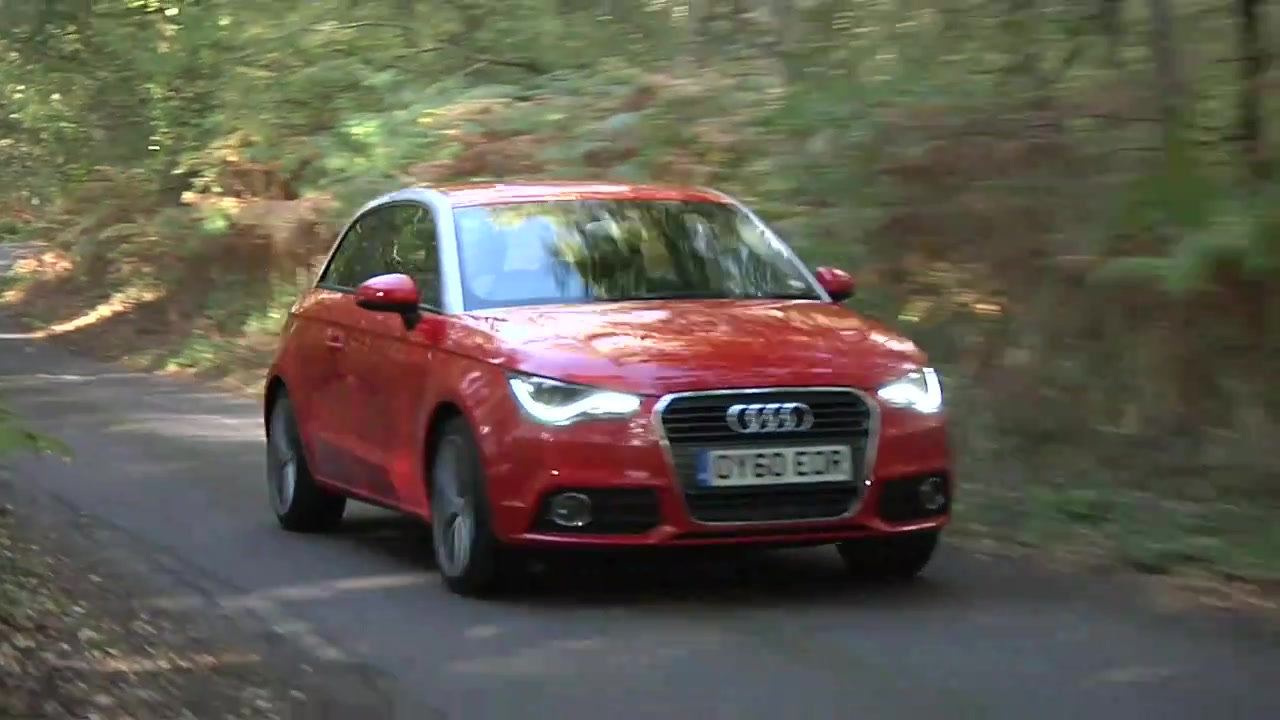car: (262, 177, 963, 598)
